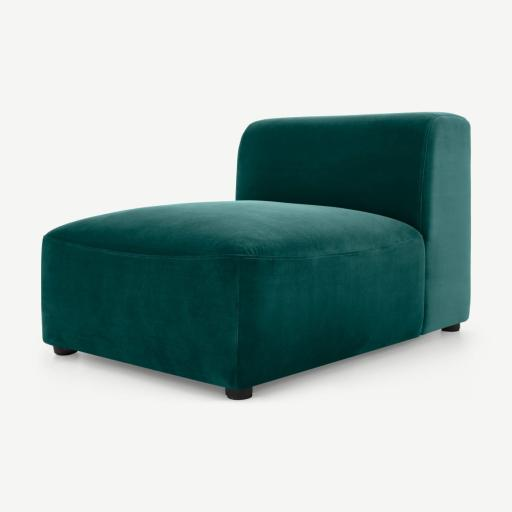back_cushion: (237, 113, 470, 333)
base: (42, 238, 422, 389)
legs: (225, 387, 251, 400), (53, 346, 76, 355), (442, 323, 460, 331)
one-seater: (42, 112, 470, 400)
seat_cushion: (46, 200, 420, 258)
